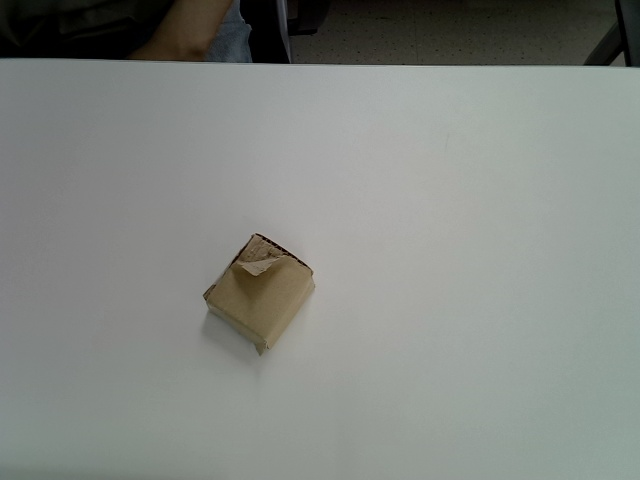defect: (205, 231, 314, 356)
